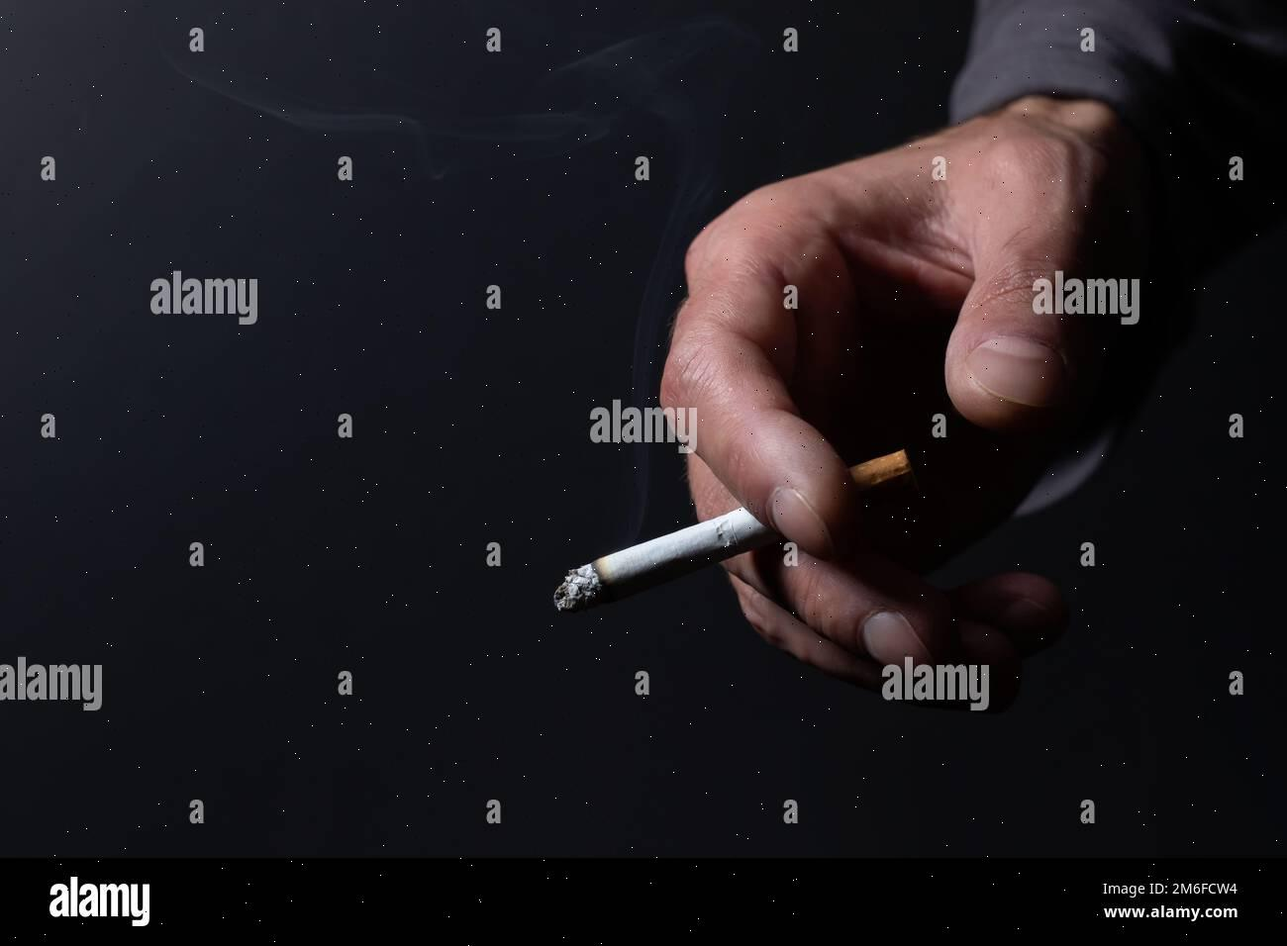cigarette: (553, 508, 780, 611)
